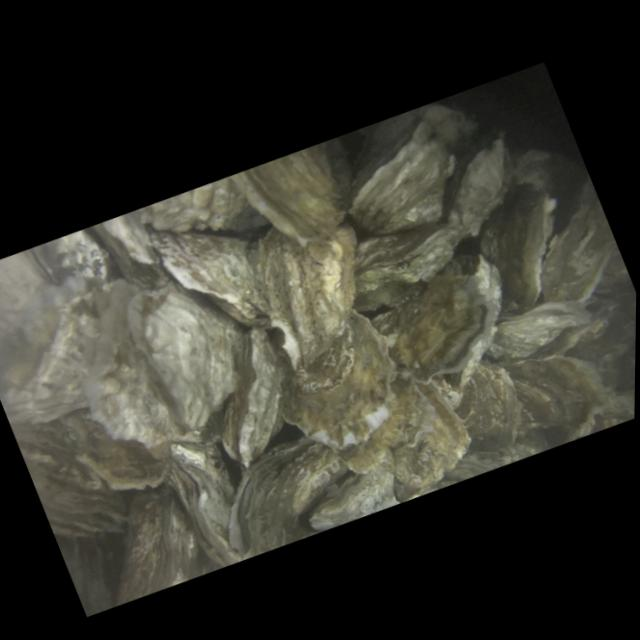Oyster-Closed: (356, 235, 541, 425), (236, 192, 401, 380), (253, 292, 423, 469), (118, 260, 274, 447), (322, 95, 486, 252), (202, 417, 371, 569), (145, 196, 284, 355), (183, 315, 319, 477), (228, 131, 370, 269), (82, 471, 213, 610), (332, 201, 475, 320), (150, 424, 261, 577), (425, 130, 534, 245), (288, 442, 412, 542), (474, 281, 598, 377)
Oyster-Indeterminate: (43, 265, 213, 480), (447, 137, 602, 326), (502, 172, 634, 320), (55, 379, 177, 512), (364, 368, 485, 501), (500, 329, 616, 445), (436, 346, 539, 470)
